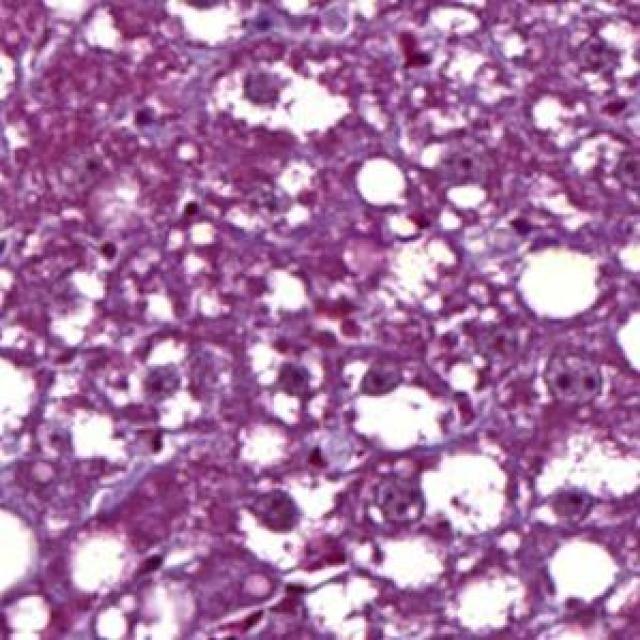steatosis: (520, 250, 608, 319)
